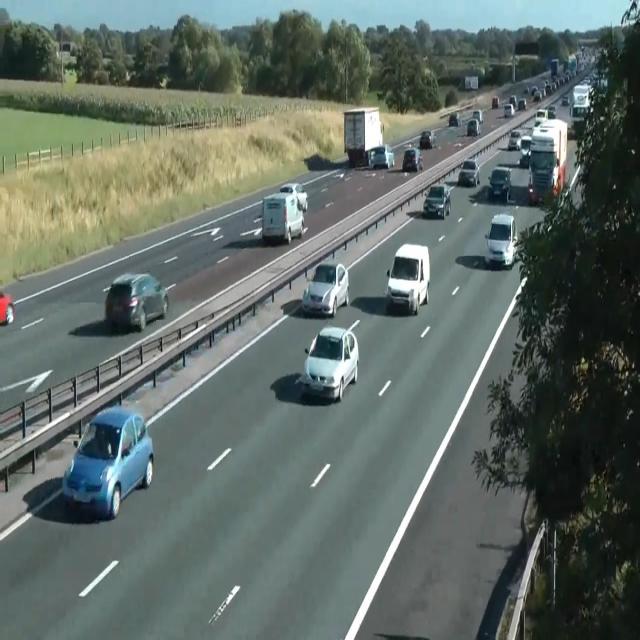bus: (103, 272, 169, 332), (279, 182, 308, 212), (368, 145, 394, 169), (402, 146, 423, 172), (0, 290, 15, 324), (515, 274, 529, 298), (419, 130, 436, 148), (448, 112, 461, 126), (472, 110, 483, 124), (504, 103, 514, 117), (547, 105, 557, 118), (509, 95, 517, 108), (518, 98, 526, 110), (561, 95, 569, 106)
jeep: (62, 404, 154, 520), (301, 322, 359, 402), (386, 242, 430, 314), (301, 260, 349, 318), (484, 212, 517, 268), (423, 183, 451, 219), (487, 164, 511, 201), (457, 158, 480, 187), (518, 134, 532, 167), (466, 117, 481, 136), (508, 129, 520, 149)
minibus: (528, 118, 568, 204), (344, 106, 384, 168), (261, 191, 304, 245), (569, 84, 593, 136), (564, 54, 578, 76), (458, 76, 478, 90), (550, 58, 558, 76), (491, 96, 499, 108)
